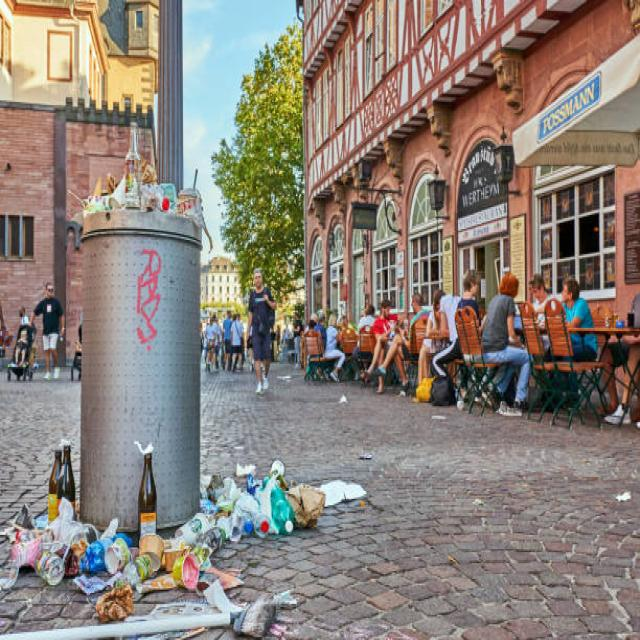glass: (135, 454, 177, 584), (48, 436, 83, 554), (116, 118, 144, 222)
paper: (286, 485, 374, 527), (168, 552, 214, 598), (88, 584, 139, 621)
plastic: (235, 477, 295, 541), (178, 160, 214, 246)
